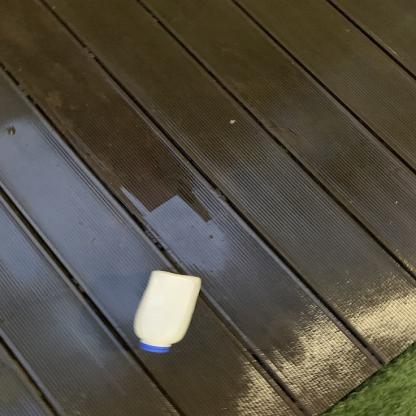trash: (135, 270, 205, 351)
